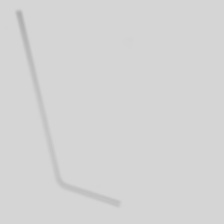drinking_straw: (10, 5, 126, 211)
